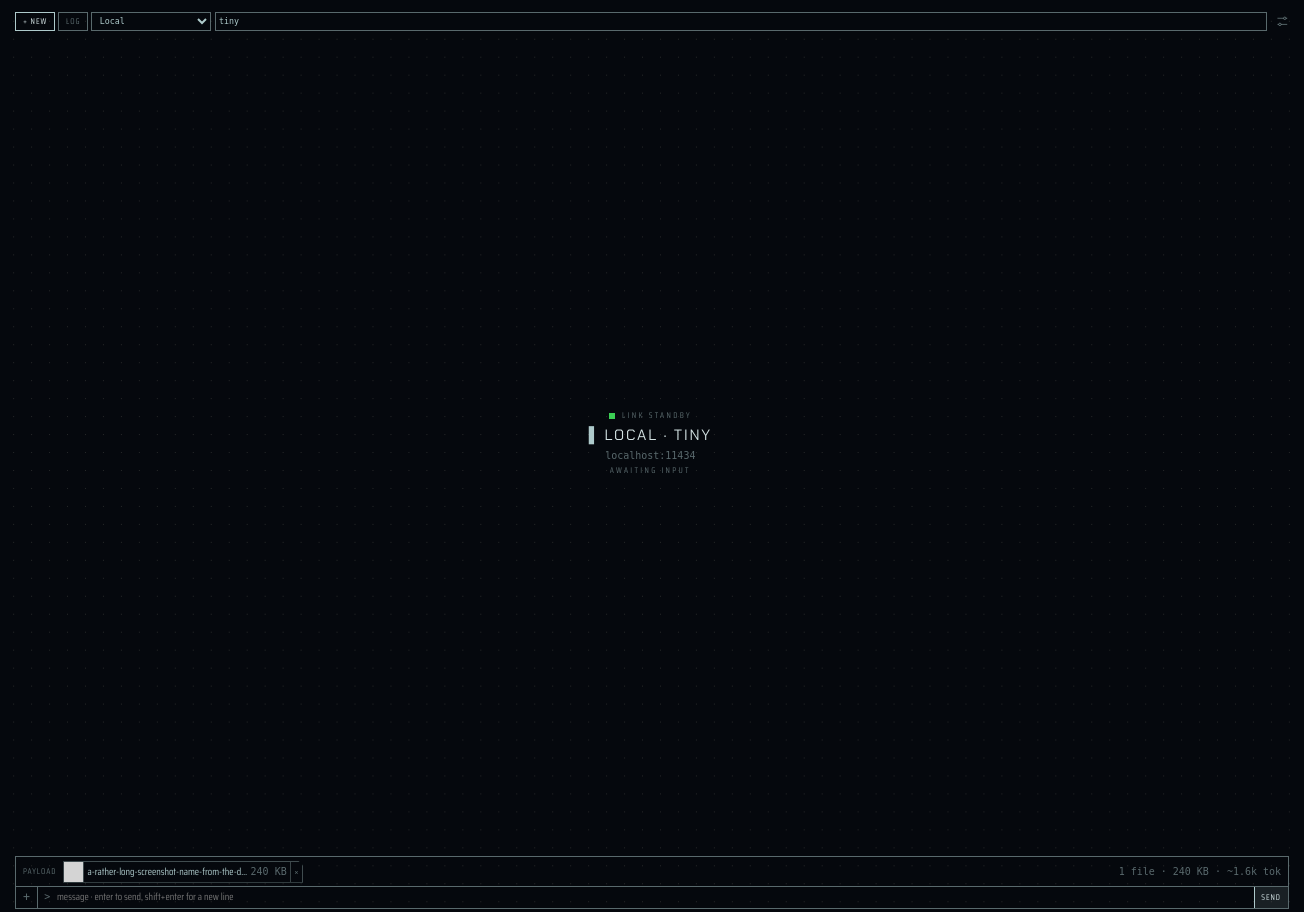
Test: AiChatWidget files › a card whose chip went goes with it
The width and height of the screenshot is (1304, 912).
Focus the button with class "face" at (177, 872), box [64,862,290,882]
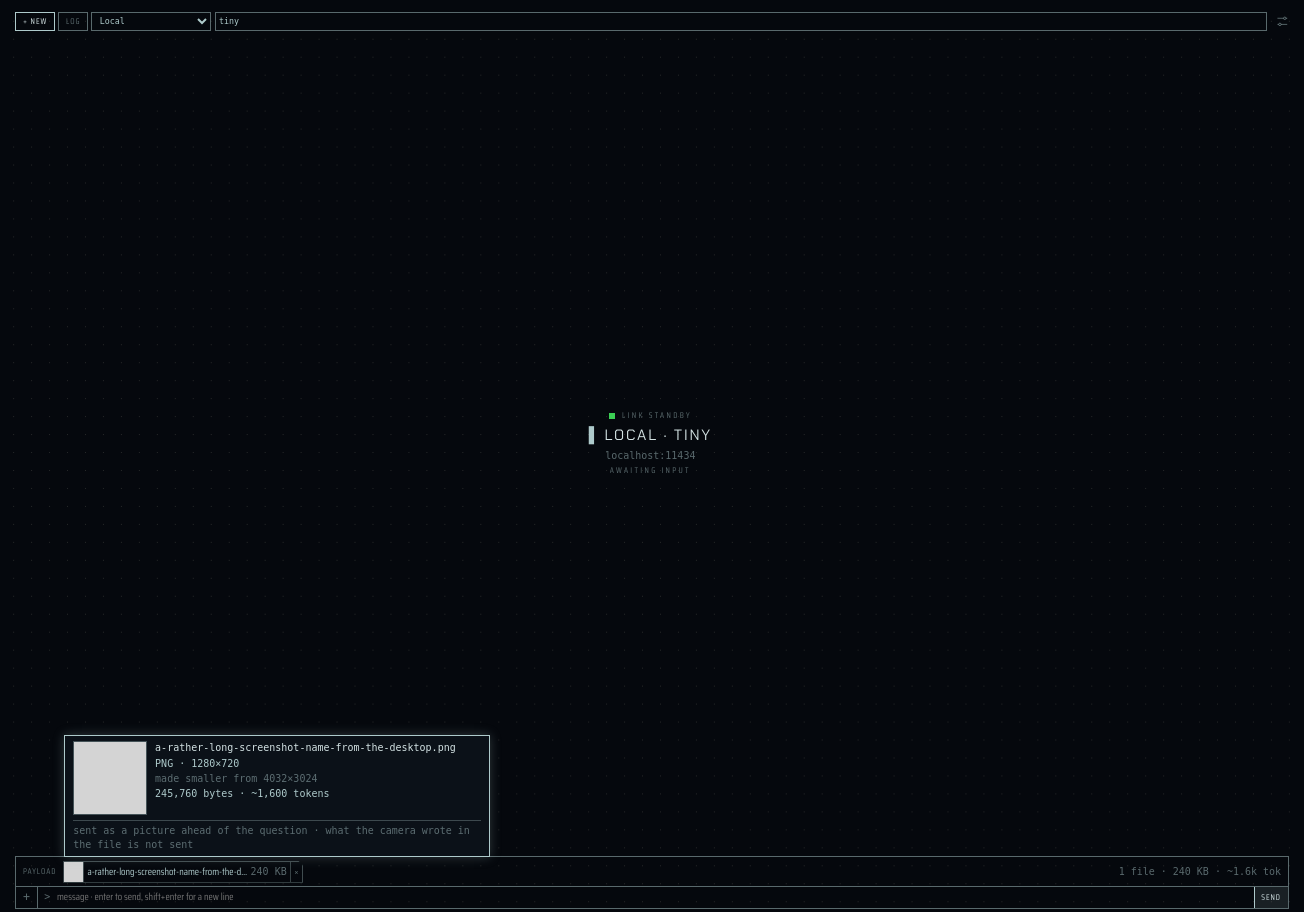
Now the tooltip with test id "aichat-file-card" is shown, box [64,735,490,857]
Note: Sent from the keyboard while the card is up: the chip goes, with no pointerleave.
Press Enter in the text box with test id "aichat-input", box [50,887,1254,908]
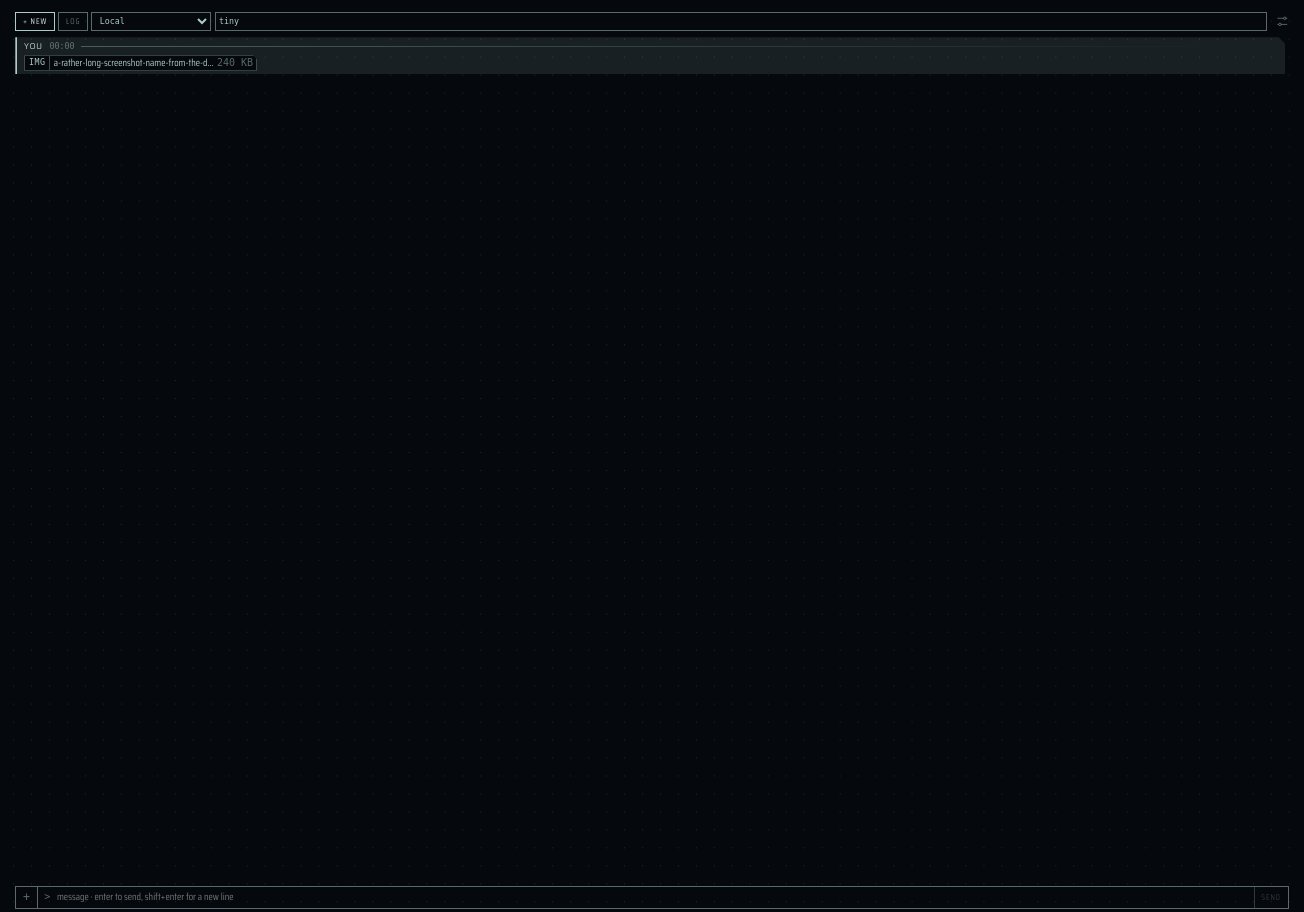
Now the element with test id "aichat-payload" is gone
Now the tooltip with test id "aichat-file-card" is gone
